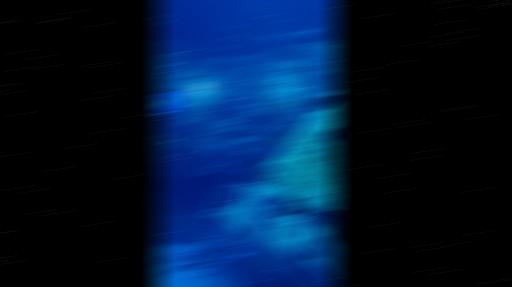Fish: (279, 196, 336, 245), (280, 18, 321, 42), (306, 95, 337, 110), (154, 98, 181, 112), (203, 208, 228, 216), (322, 129, 337, 142), (307, 247, 320, 258), (258, 35, 275, 43), (166, 138, 176, 148), (326, 90, 337, 96), (164, 63, 179, 67), (226, 25, 240, 29), (156, 16, 166, 21), (238, 167, 248, 172), (240, 36, 249, 41), (221, 46, 231, 50), (228, 35, 238, 39), (168, 52, 178, 56), (160, 19, 167, 24)
